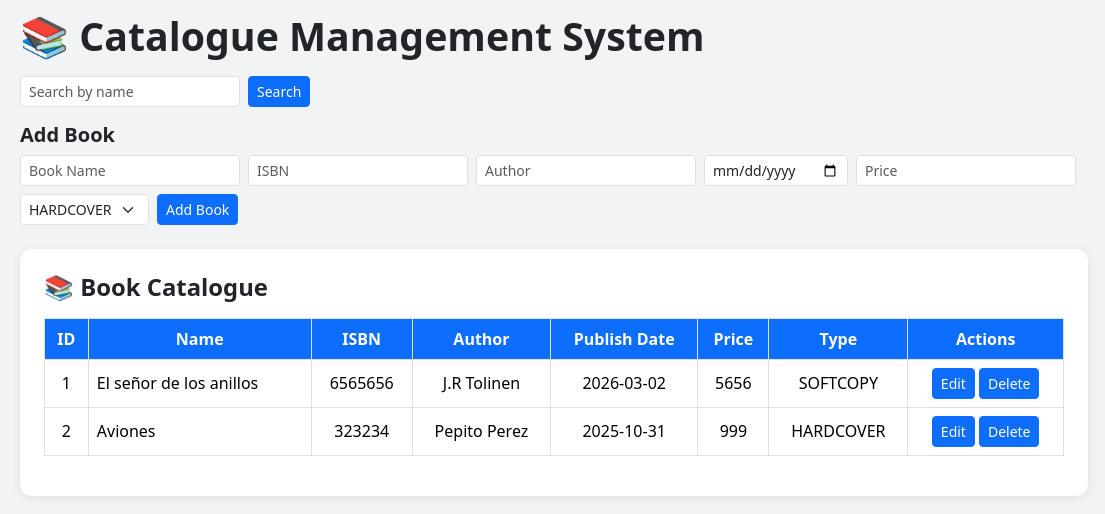
Test: App (flujo completo CRUD + búsqueda) › buscar un nombre inexistente muestra No books found
The width and height of the screenshot is (1105, 514).
Expected: the text "Aviones" is shown, [88,407,311,455]
Step 1. Type "zzzz" into the field labelled "Search by name" → (130, 92), box [20,76,240,107]
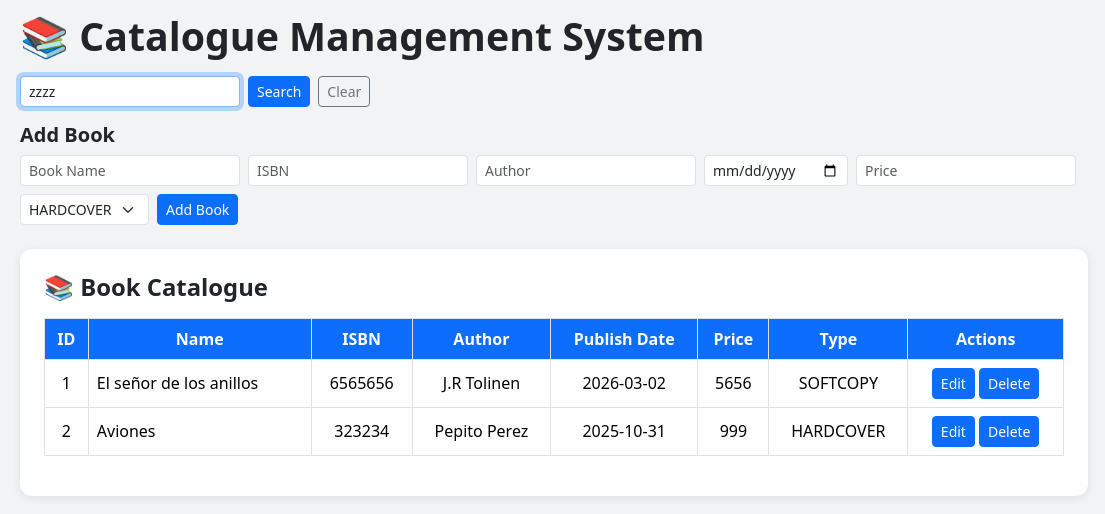
Step 2. Click the button "Search" → (279, 92), box [248,76,310,107]
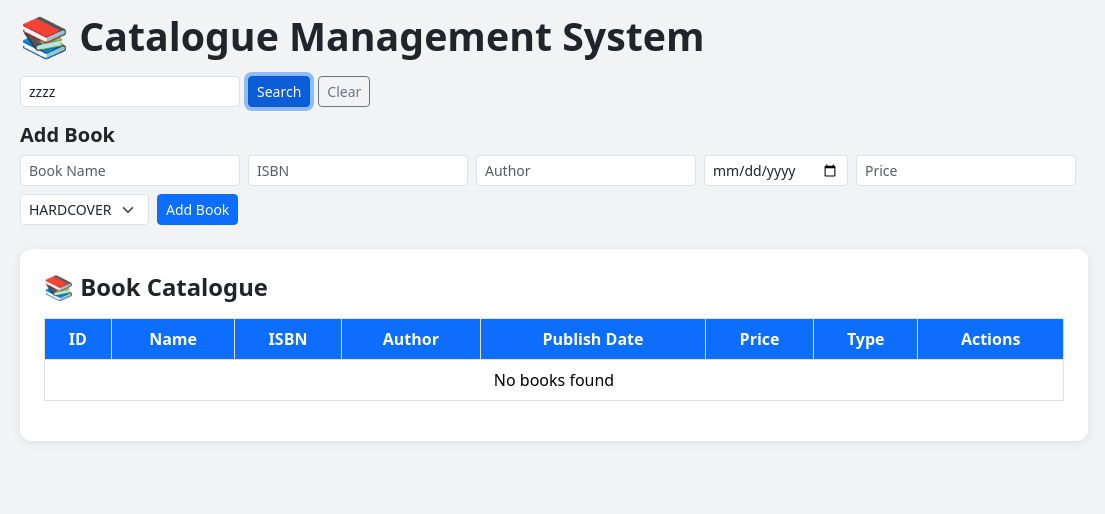
Result: the text "No books found" is shown at [44,359,1064,400]
